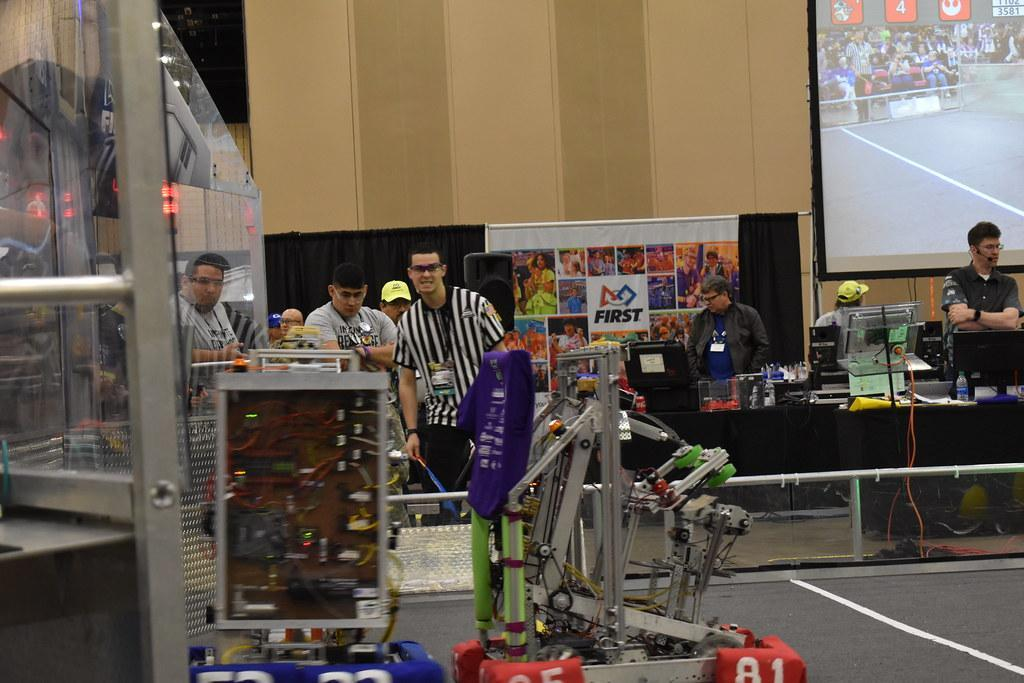robot: (449, 330, 813, 683), (182, 322, 452, 683)
